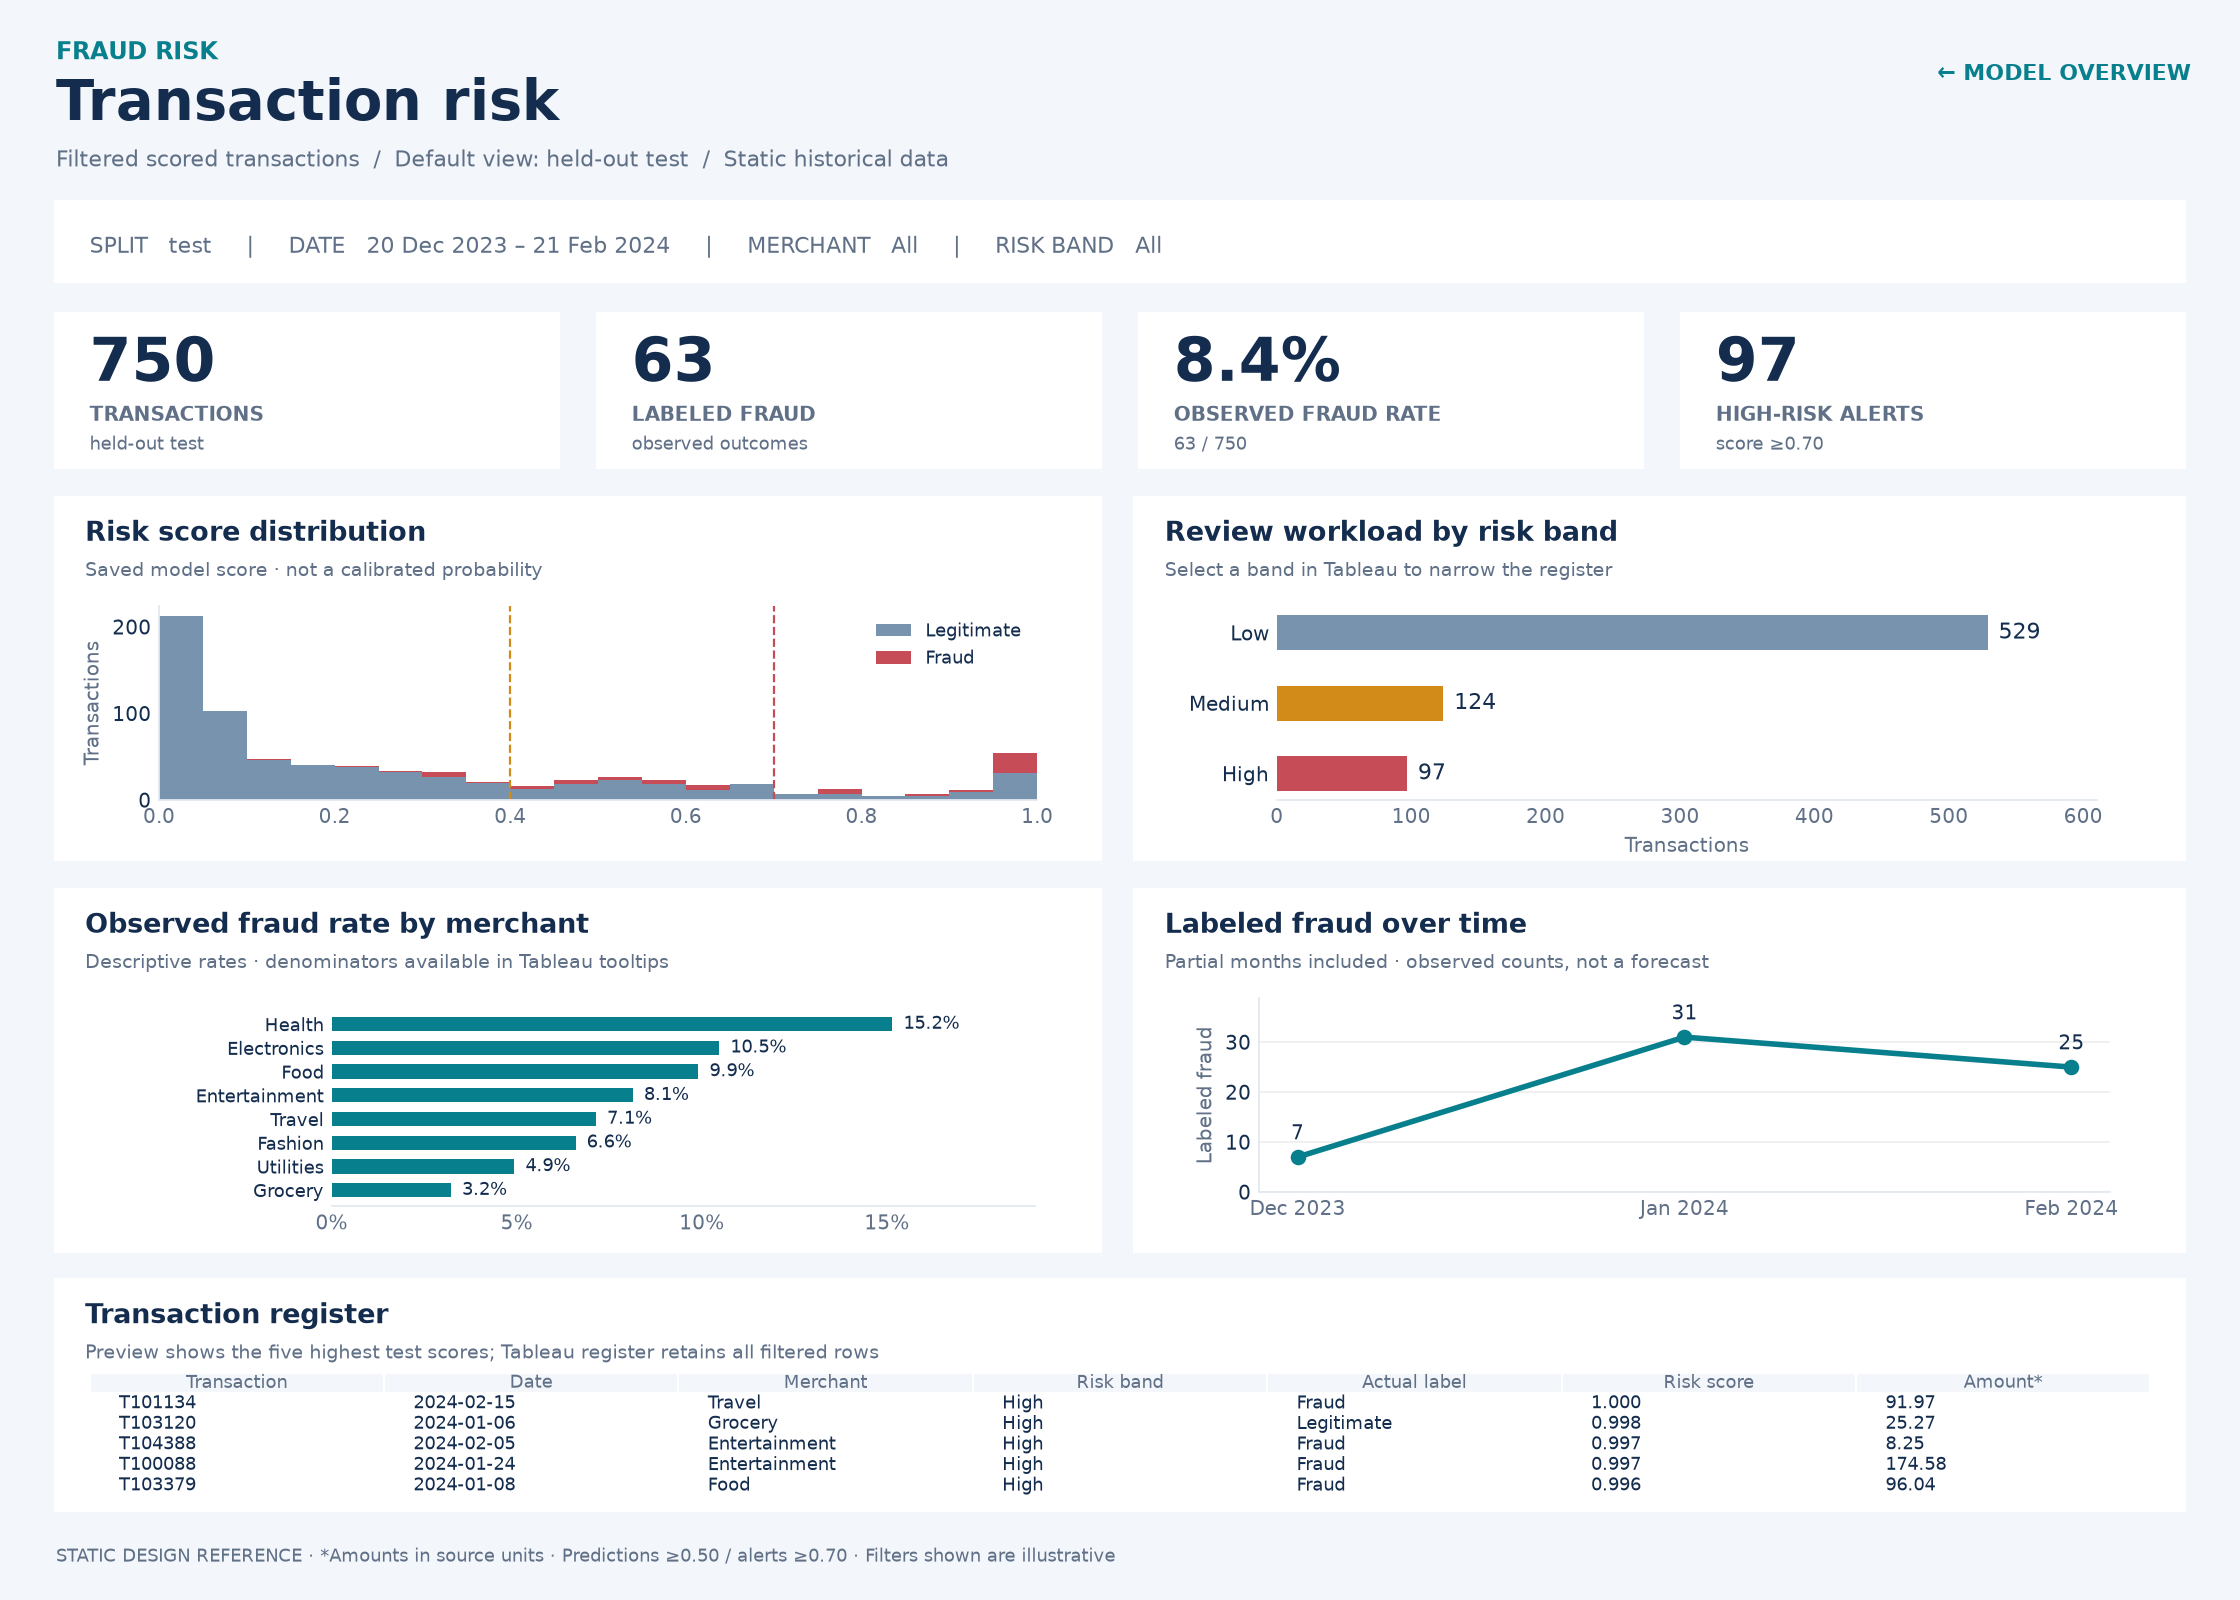

This screenshot's page, from the dashboard's own definition file:
{"tool":"tableau","page":{"name":"Transaction Risk","canvas":[1169,827],"ordinal":1},"visuals":[{"type":"text","box":[20,13,1129,28]},{"type":"dashboard-object","box":[994,13,164,52]},{"type":"text","box":[20.9,43,387.4,36.4]},{"type":"filter","title":"R01 Total Transactions","param":"[federated.00pbds40gbieip127fygq0uhk7da].[none:split:nk]","box":[20,86,183.7,46.3]},{"type":"filter","title":"R01 Total Transactions","param":"[federated.00pbds40gbieip127fygq0uhk7da].[none:Transaction_Date:qk]","box":[217.1,86,359,46.3]},{"type":"filter","title":"R01 Total Transactions","param":"[federated.00pbds40gbieip127fygq0uhk7da].[none:Merchant_Category:nk]","box":[589.5,86,272.2,48]},{"type":"filter","title":"R01 Total Transactions","param":"[federated.00pbds40gbieip127fygq0uhk7da].[none:risk_band:nk]","box":[875.1,86,273.9,46.3]},{"type":"worksheet","title":"R01 Total Transactions","mark":"Automatic","box":[20,146,272,81]},{"type":"worksheet","title":"R02 Labeled Fraud","mark":"Automatic","box":[306,146,272,80]},{"type":"worksheet","title":"R03 Fraud Rate","mark":"Automatic","box":[591,146,272,79]},{"type":"worksheet","title":"R04 High Risk Alerts","mark":"Automatic","box":[877,146,272,79]},{"type":"worksheet","title":"R05 Score Distribution","mark":"Bar","rows":["Calculation_3460003310010368"],"cols":["Calculation_3460003311022086"],"box":[19.2,228.3,547.8,183.6]},{"type":"worksheet","title":"R06 Risk Bands","mark":"Bar","rows":["Calculation_3460003310010368"],"cols":["risk_band"],"box":[572.8,228.3,567.8,183.6]},{"type":"legend","title":"R05 Score Distribution","param":"[federated.00pbds40gbieip127fygq0uhk7da].[none:Calculation_3460003310559236:nk]","box":[448.4,277.9,116.9,45.5]},{"type":"legend","title":"R06 Risk Bands","param":"[federated.00pbds40gbieip127fygq0uhk7da].[none:risk_band:nk]","box":[1000.3,278.7,116.9,64.5]},{"type":"worksheet","title":"R07 Merchant Fraud Rate","mark":"Bar","rows":["Merchant_Category"],"cols":["Calculation_3460003310141442"],"box":[20,433.3,547.8,183.6]},{"type":"worksheet","title":"R08 Monthly Fraud","mark":"Line","rows":["Calculation_3460003310141442"],"cols":["Transaction_Date"],"box":[581.2,433.3,567.8,183.6]},{"type":"worksheet","title":"R09 Transaction Register","mark":"Automatic","rows":["Transaction_ID","Merchant_Category","risk_band","Calculation_3460003310559236","Transaction_Date"],"box":[20,630.2,1128.9,153.8]},{"type":"text","box":[20,790.6,1128.9,23.2]}]}

Visuals, with their boxes in screenshot pixels (x1, y1, x2, y2), scaled from the page's 1169x827 canvas onto the 2240x1600 screenshot:
text: [38,25,2202,79]
dashboard-object: [1905,25,2219,126]
text: [40,83,782,154]
"R01 Total Transactions" filter: [38,166,390,256]
"R01 Total Transactions" filter: [416,166,1104,256]
"R01 Total Transactions" filter: [1130,166,1651,259]
"R01 Total Transactions" filter: [1677,166,2202,256]
"R01 Total Transactions" worksheet: [38,282,560,439]
"R02 Labeled Fraud" worksheet: [586,282,1108,437]
"R03 Fraud Rate" worksheet: [1132,282,1654,435]
"R04 High Risk Alerts" worksheet: [1680,282,2202,435]
"R05 Score Distribution" worksheet (Bar marks): [37,442,1086,797]
"R06 Risk Bands" worksheet (Bar marks): [1098,442,2186,797]
"R05 Score Distribution" legend: [859,538,1083,626]
"R06 Risk Bands" legend: [1917,539,2141,664]
"R07 Merchant Fraud Rate" worksheet (Bar marks): [38,838,1088,1194]
"R08 Monthly Fraud" worksheet (Line marks): [1114,838,2202,1194]
"R09 Transaction Register" worksheet: [38,1219,2201,1517]
text: [38,1530,2201,1574]
